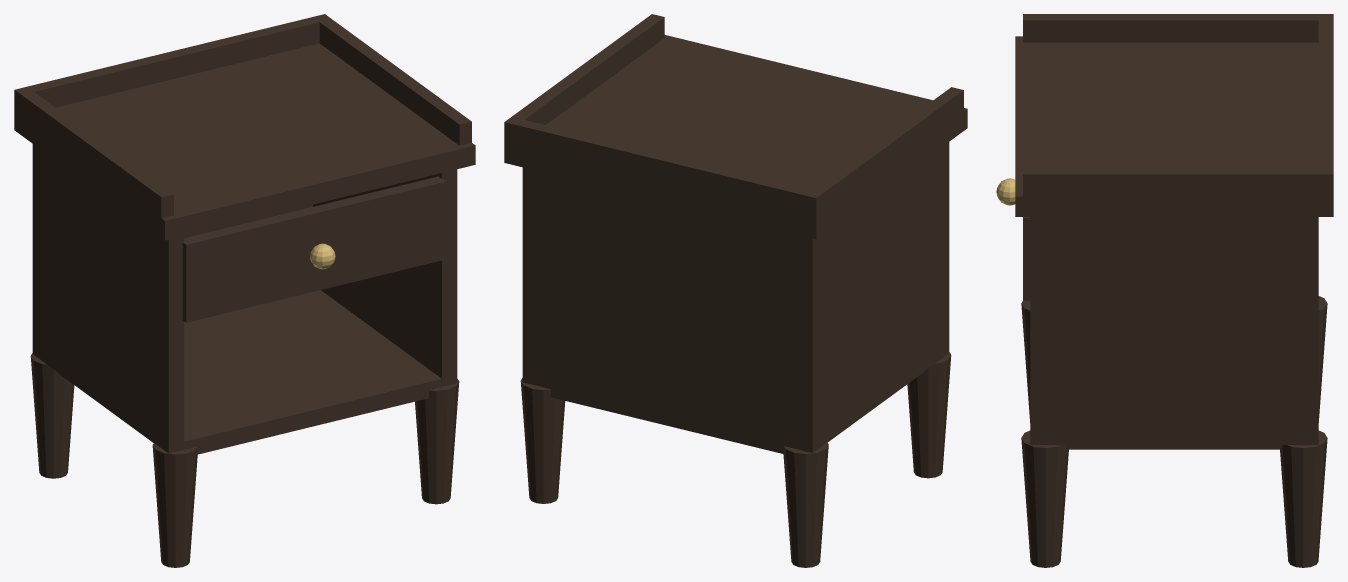
Rendered from SM_Furniture_Nightstand_01.glb.
The picture shows the model from 3 angles, left to right: view 1: azimuth 30°, elevation 25°; view 2: azimuth 150°, elevation 25°; view 3: azimuth 270°, elevation 25°; orthographic projection. The views are drawn at different scales.
Visible parts, largest first — view 1: SM_Furniture_Nightstand_01; view 2: SM_Furniture_Nightstand_01; view 3: SM_Furniture_Nightstand_01.
Part boxes in pixels (x1,y1,x2,y2): SM_Furniture_Nightstand_01: (14, 14, 475, 567); SM_Furniture_Nightstand_01: (504, 14, 967, 567); SM_Furniture_Nightstand_01: (996, 14, 1333, 567).
Bounding box in the file's own units: 0.5 × 0.5825 × 0.445.
